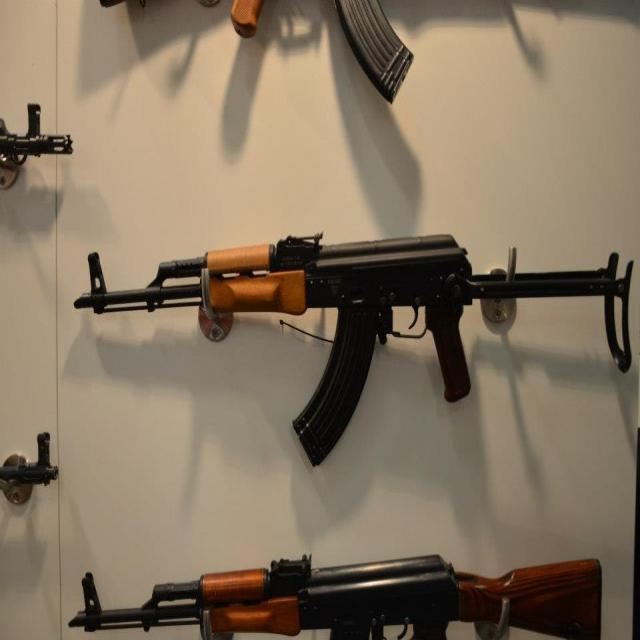firearm: (72, 230, 636, 472), (66, 550, 603, 640), (97, 0, 274, 41), (0, 426, 61, 493)
